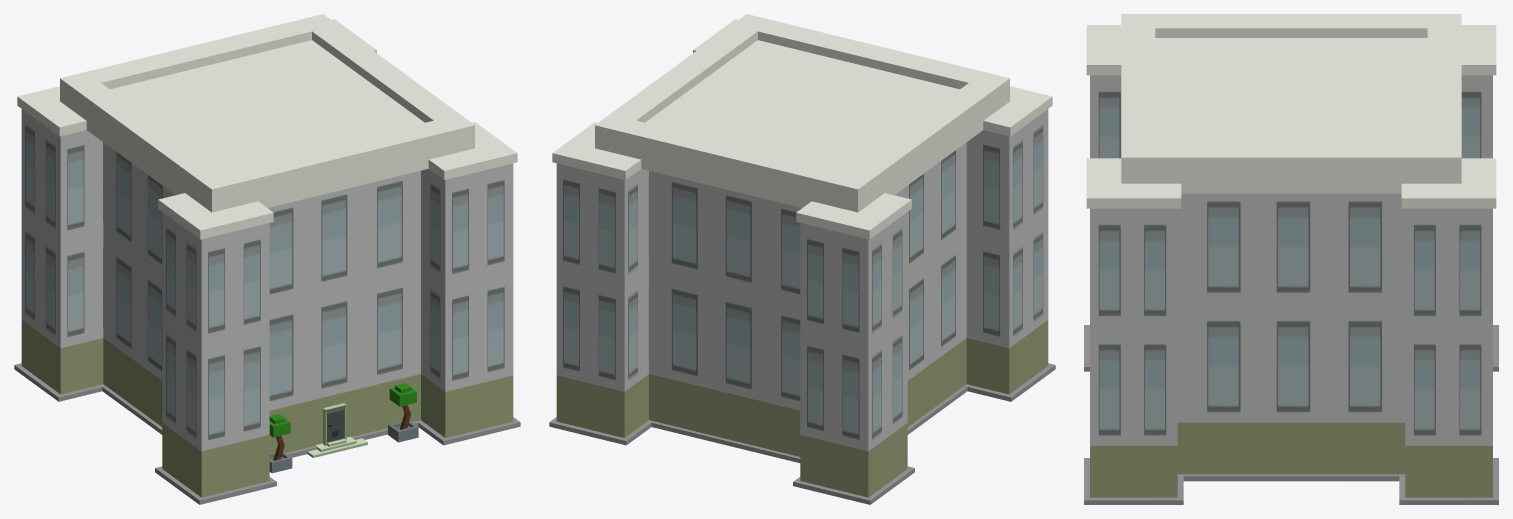
Rendered from Corner Pilars Basic.fbx.
3 views of the same model, side by side, from view 1: azimuth 30°, elevation 25°; view 2: azimuth 150°, elevation 25°; view 3: azimuth 270°, elevation 25° (orthographic). The views are drawn at different scales.
Visible parts, largest first — view 1: Corner Pilars Basic; view 2: Corner Pilars Basic; view 3: Corner Pilars Basic.
Part boxes in pixels (x1=…): Corner Pilars Basic: x1=14, y1=14, x2=520, y2=504; Corner Pilars Basic: x1=549, y1=14, x2=1055, y2=504; Corner Pilars Basic: x1=1084, y1=14, x2=1498, y2=504.
Size of the model in its own units: 7.37 by 6.5 by 7.37.
